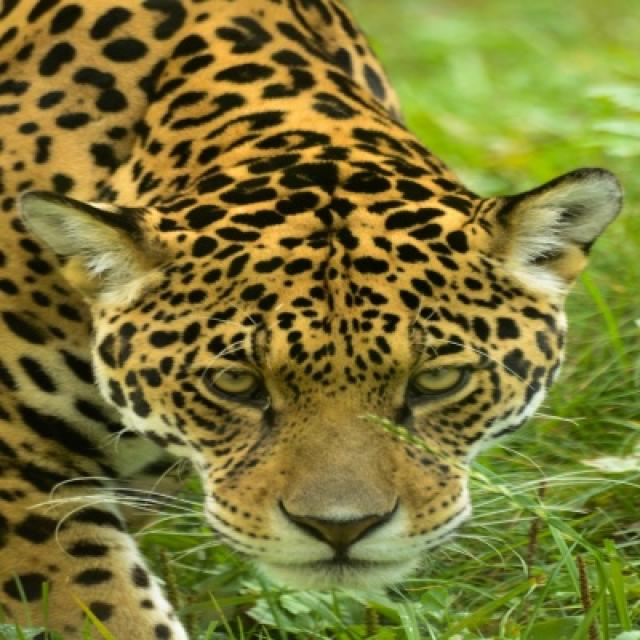Jaguar: (0, 0, 624, 638)
